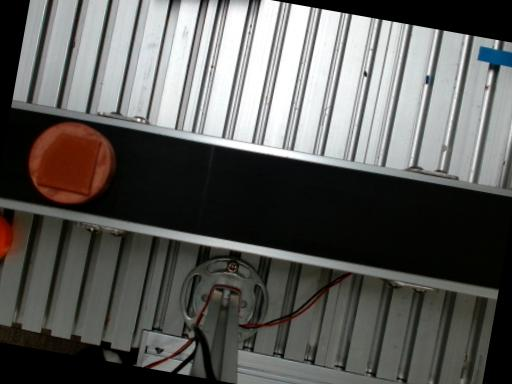Brown_Waper: (29, 121, 116, 204)
Not_Square: (36, 132, 101, 196)
